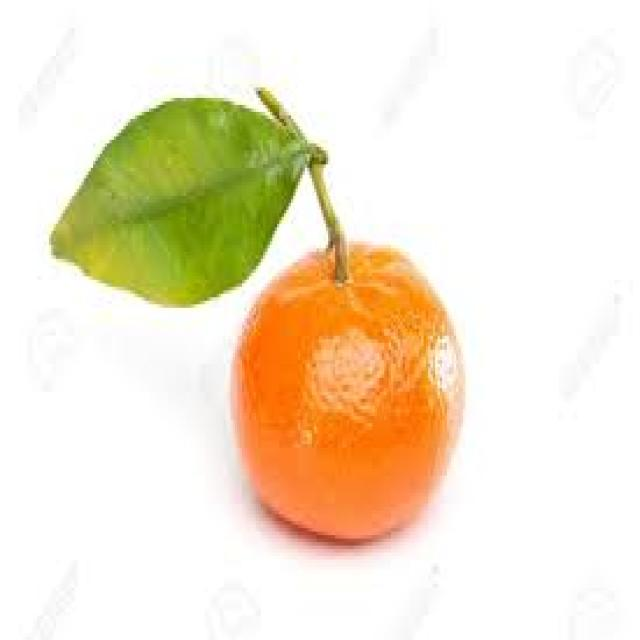Organik: (45, 72, 362, 312), (238, 232, 468, 540)
